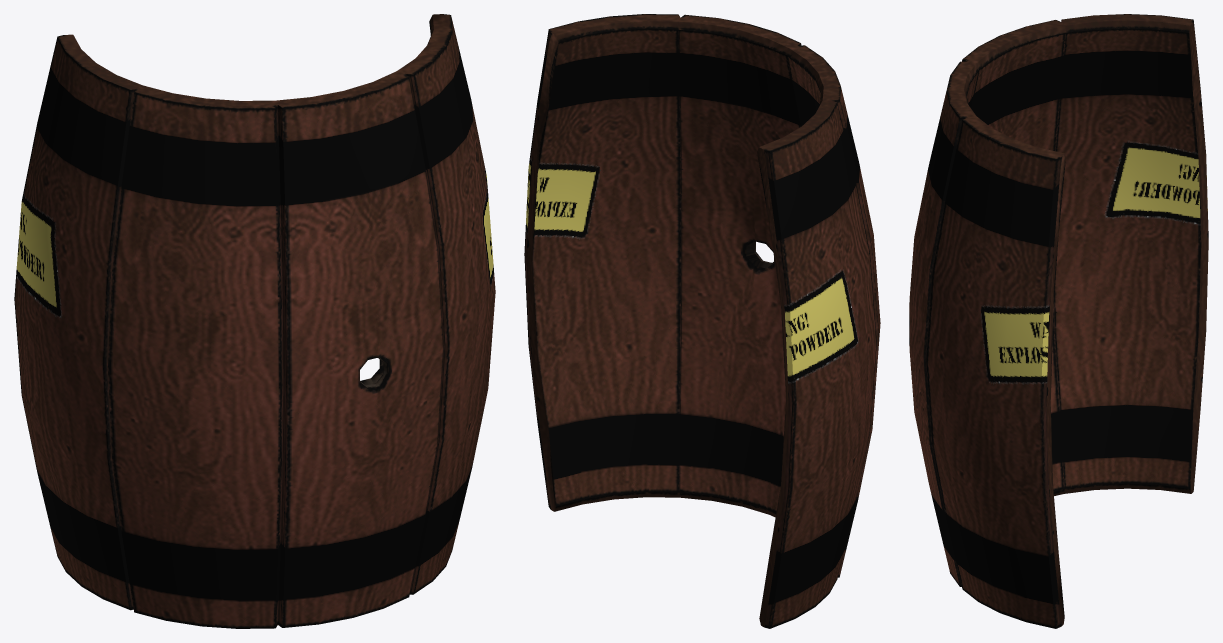
Rendered from keg_middle_gib_1.fbx.
3 renders of one model, left to right at view 1: azimuth 30°, elevation 25°; view 2: azimuth 150°, elevation 25°; view 3: azimuth 270°, elevation 25°, orthographic. The views are drawn at different scales.
Parts seen in each view (by area): view 1: keg_middle_gib_1; view 2: keg_middle_gib_1; view 3: keg_middle_gib_1.
Boxes of the visible parts, box(x1,y1,x2,y2) form: keg_middle_gib_1: box(14, 14, 495, 628); keg_middle_gib_1: box(524, 14, 880, 628); keg_middle_gib_1: box(909, 14, 1208, 628).
Size of the model in its own units: 243 by 300 by 173.
